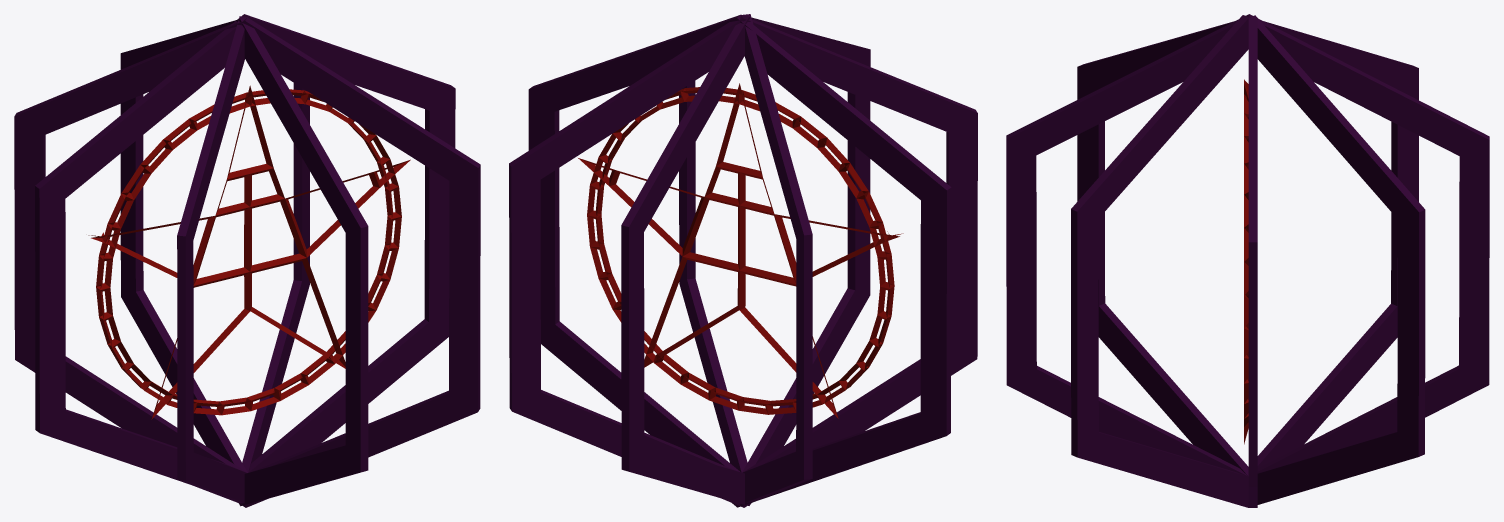
File: Pentagram_chandelier.fbx
3 renders of one model, left to right at view 1: azimuth 30°, elevation 25°; view 2: azimuth 150°, elevation 25°; view 3: azimuth 270°, elevation 25°, orthographic.
Visible parts, largest first — view 1: Plane.005, Plane; view 2: Plane.005, Plane; view 3: Plane.005, Plane.
Boxes of the visible parts, bbox=[...] form: Plane.005: bbox=[14, 14, 480, 507]; Plane: bbox=[88, 85, 410, 419]; Plane.005: bbox=[509, 14, 977, 507]; Plane: bbox=[578, 83, 903, 418]; Plane.005: bbox=[1006, 14, 1489, 507]; Plane: bbox=[1244, 79, 1248, 444].
Size of the model in its own units: 325 by 364 by 325.
